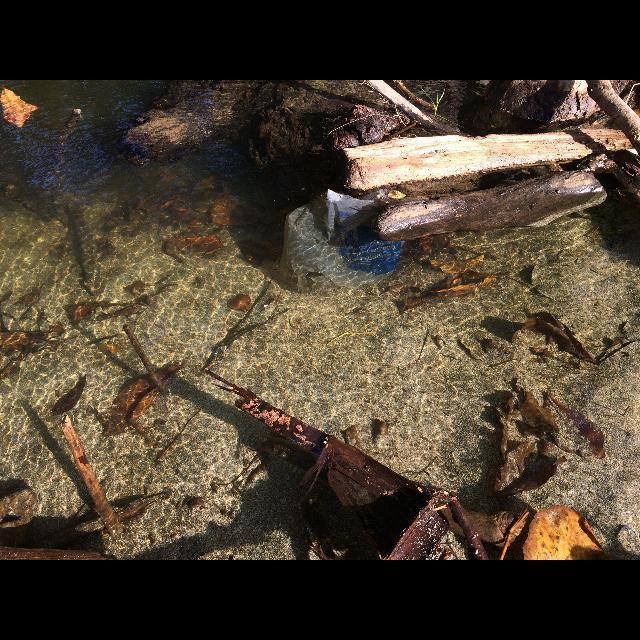Plastic: (277, 190, 405, 294)
